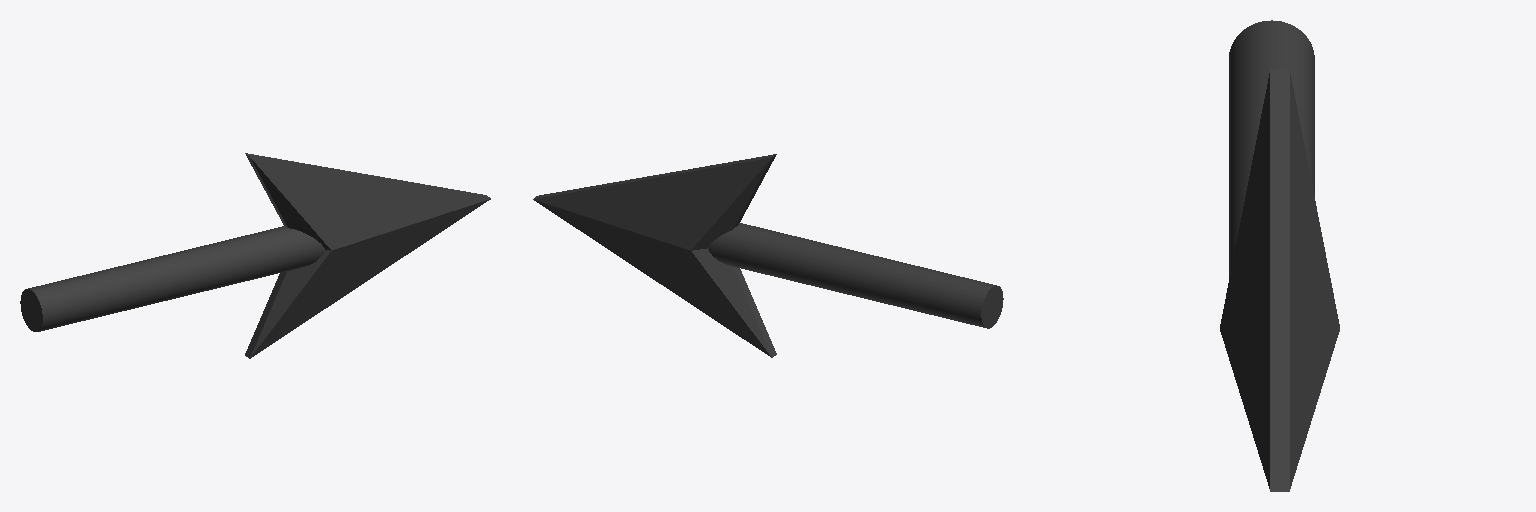
The robot description file, URDF, robot "arrow":
<?xml version="1.0"?>
<robot name="arrow">
    <link name="arrow">
        <inertial>
            <origin rpy="0 0 0" xyz="0 0 0" />
            <mass value="1" />
        </inertial>
        <visual>
            <origin rpy="0 0 0" xyz="0 0 0" />
            <geometry>
                <mesh filename="mesh/GPS_Navigation_Arrow_modified.obj" scale="0.005 0.005 0.005" />
                <!-- <mesh filename="mesh/GPS_Navigation_Arrow.obj" scale="0.005 0.005 0.005" /> -->
                <!-- <mesh filename="mesh/simple_arrow.obj" scale="0.05 0.05 0.05" /> -->
            </geometry>
            <material name="material">
                <color rgba="0.3 0.3 0.3 1" />
            </material>
        </visual>
        <collision>
            <origin rpy="0 0 0" xyz="0 0 0" />
            <geometry>
                <box size="0.05 0.05 0.05" />
            </geometry>
        </collision>
    </link>
</robot>

--- Render facts (derived) ---
The picture shows the robot from 3 angles, left to right: view 1: azimuth 30°, elevation 25°; view 2: azimuth 150°, elevation 25°; view 3: azimuth 270°, elevation 25°; orthographic projection.
Model arrow with 1 links and 0 joints (none), rooted at arrow, posed every joint at zero.
Links seen in each view (by area): view 1: arrow; view 2: arrow; view 3: arrow.
Link boxes in pixels (x1,y1,x2,y2): arrow: (20, 153, 490, 358); arrow: (533, 154, 1003, 357); arrow: (1220, 20, 1339, 491).
Bounding box of the posed robot: 0.475 × 0.0561 × 0.2 m (x, y, z).
Meshes: 1 distinct files referenced, 1 mesh visuals loaded (1 OBJ).